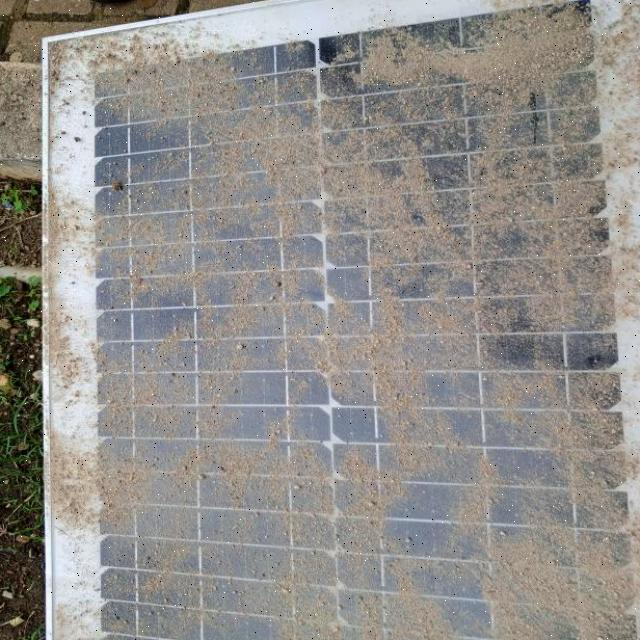Surface Contaminant: (78, 57, 614, 640)
